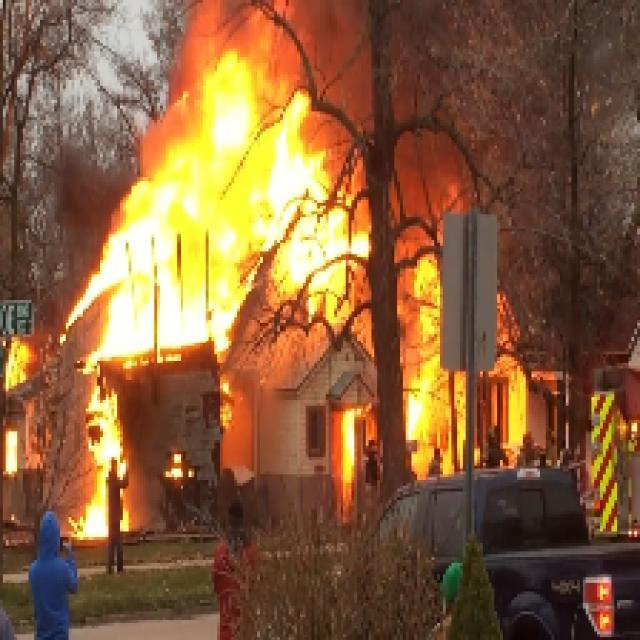Fire: (140, 111, 312, 320)
